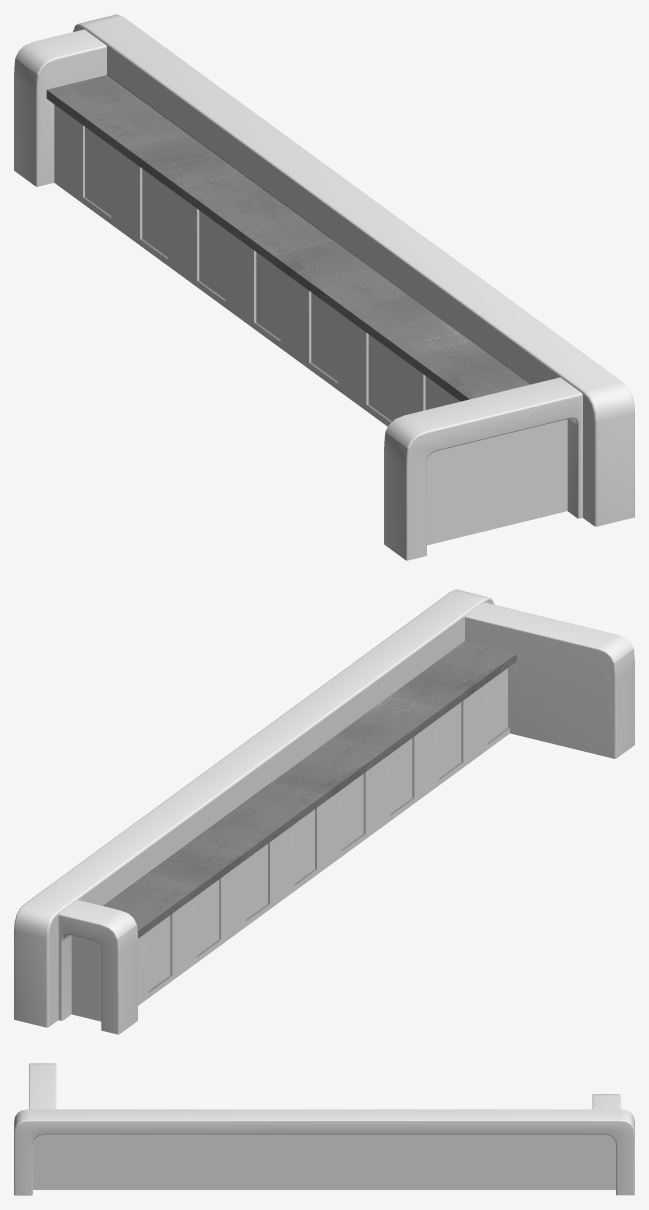
File: Bar01.FBX
3 renders of one model, top to bottom at view 1: azimuth 30°, elevation 25°; view 2: azimuth 150°, elevation 25°; view 3: azimuth 270°, elevation 25°, orthographic. The views are drawn at different scales.
Parts seen in each view (by area): view 1: Bar01; view 2: Bar01; view 3: Bar01.
Boxes of the visible parts, box(x1,y1,x2,y2) form: Bar01: box(14, 14, 634, 560); Bar01: box(14, 589, 634, 1034); Bar01: box(14, 1063, 634, 1195).
Size of the model in its own units: 215 by 120 by 900.
